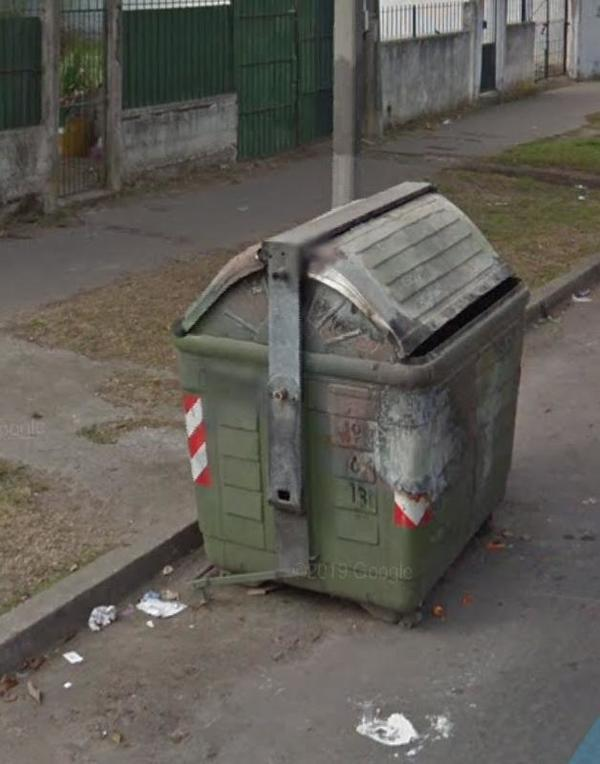Dechets: (344, 702, 423, 760), (136, 589, 187, 619), (88, 604, 117, 631), (62, 647, 84, 665)
Trash: (172, 182, 528, 622)
